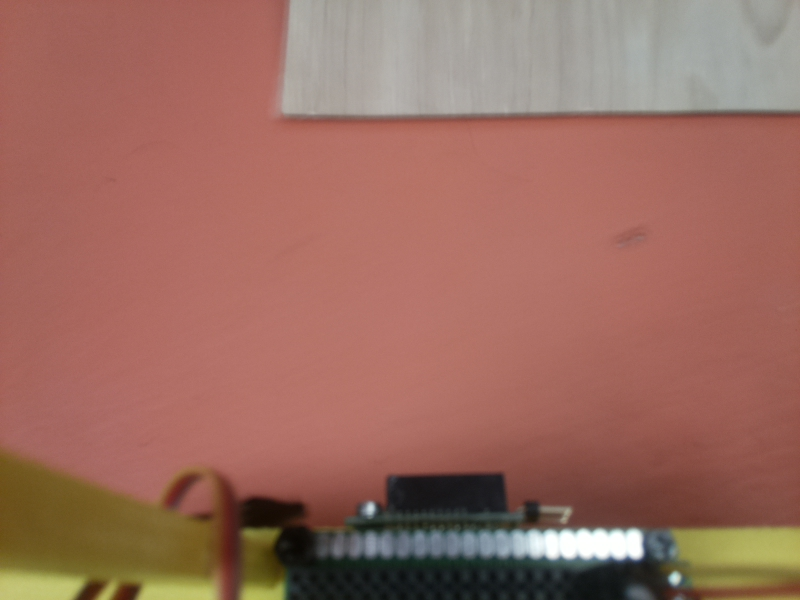slope: (273, 1, 800, 116)
